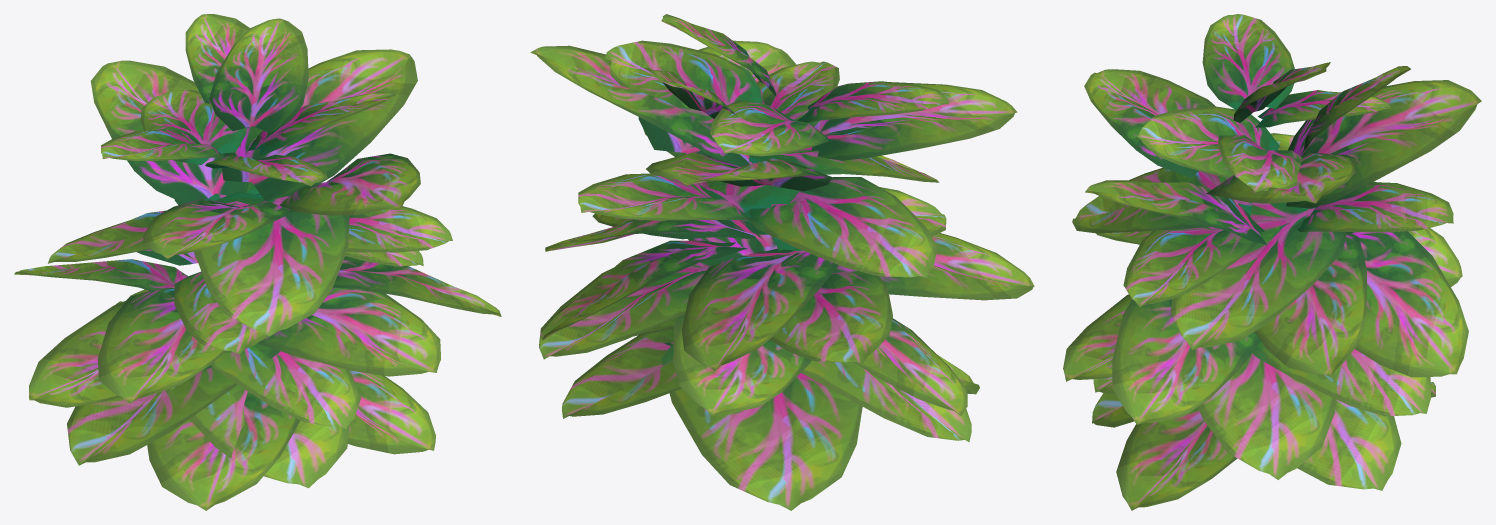
Rendered from mesh_fittonia.fbx.
The picture shows the model from 3 angles, left to right: view 1: azimuth 30°, elevation 25°; view 2: azimuth 150°, elevation 25°; view 3: azimuth 270°, elevation 25°; orthographic projection. The views are drawn at different scales.
Visible parts, largest first — view 1: fittonia_3; view 2: fittonia_3; view 3: fittonia_3.
Part boxes in pixels (box(x1,y1,x2,y2)): fittonia_3: box(14, 14, 501, 510); fittonia_3: box(530, 14, 1034, 510); fittonia_3: box(1063, 14, 1481, 510).
Size of the model in its own units: 0.4867 by 0.4455 by 0.4153.
